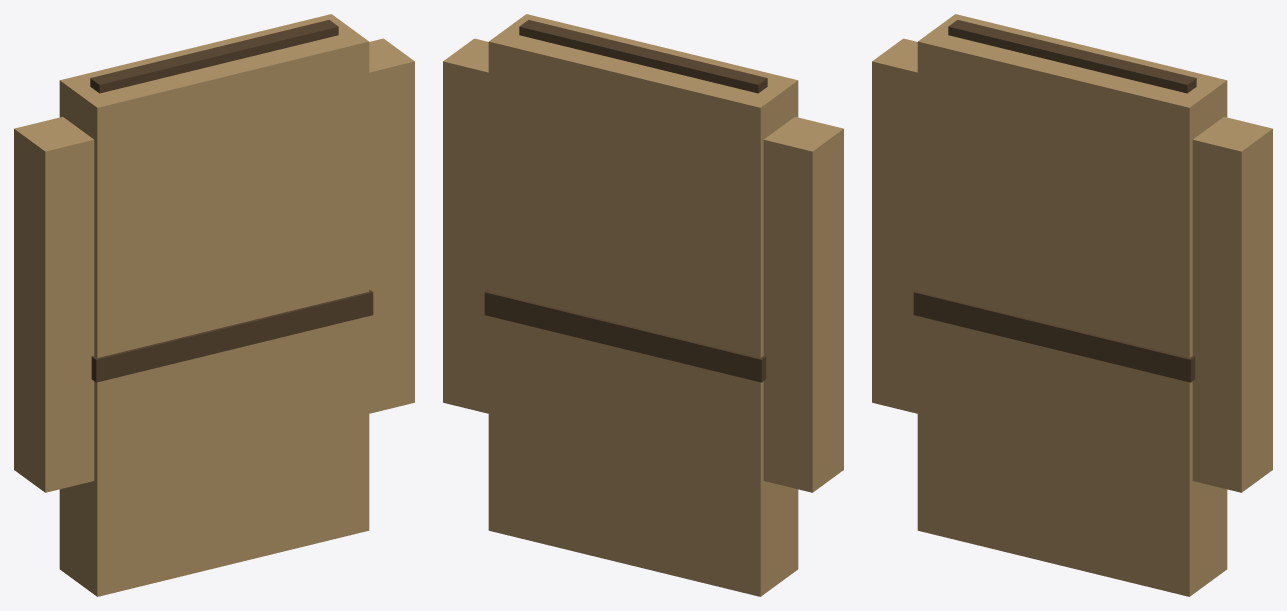
File: hanging_coat.glb
The picture shows the model from 3 angles, left to right: view 1: azimuth 30°, elevation 25°; view 2: azimuth 150°, elevation 25°; view 3: azimuth 330°, elevation 25°; orthographic projection.
Visible parts, largest first — view 1: coat_coat_beige, sleeves_coat_beige, belt_coat_dark, hanger_coat_dark; view 2: coat_coat_beige, sleeves_coat_beige, belt_coat_dark, hanger_coat_dark; view 3: coat_coat_beige, sleeves_coat_beige, belt_coat_dark, hanger_coat_dark.
Part boxes in pixels (<box>): coat_coat_beige: <box>59,14,369,596</box>; sleeves_coat_beige: <box>14,38,414,492</box>; belt_coat_dark: <box>91,289,373,382</box>; hanger_coat_dark: <box>90,20,338,93</box>; coat_coat_beige: <box>488,14,798,596</box>; sleeves_coat_beige: <box>443,38,843,492</box>; belt_coat_dark: <box>484,289,766,382</box>; hanger_coat_dark: <box>519,20,767,93</box>; coat_coat_beige: <box>917,14,1227,596</box>; sleeves_coat_beige: <box>872,38,1272,492</box>; belt_coat_dark: <box>913,289,1195,382</box>; hanger_coat_dark: <box>948,20,1196,93</box>.
Size of the model in its own units: 0.68 by 0.875 by 0.13.
